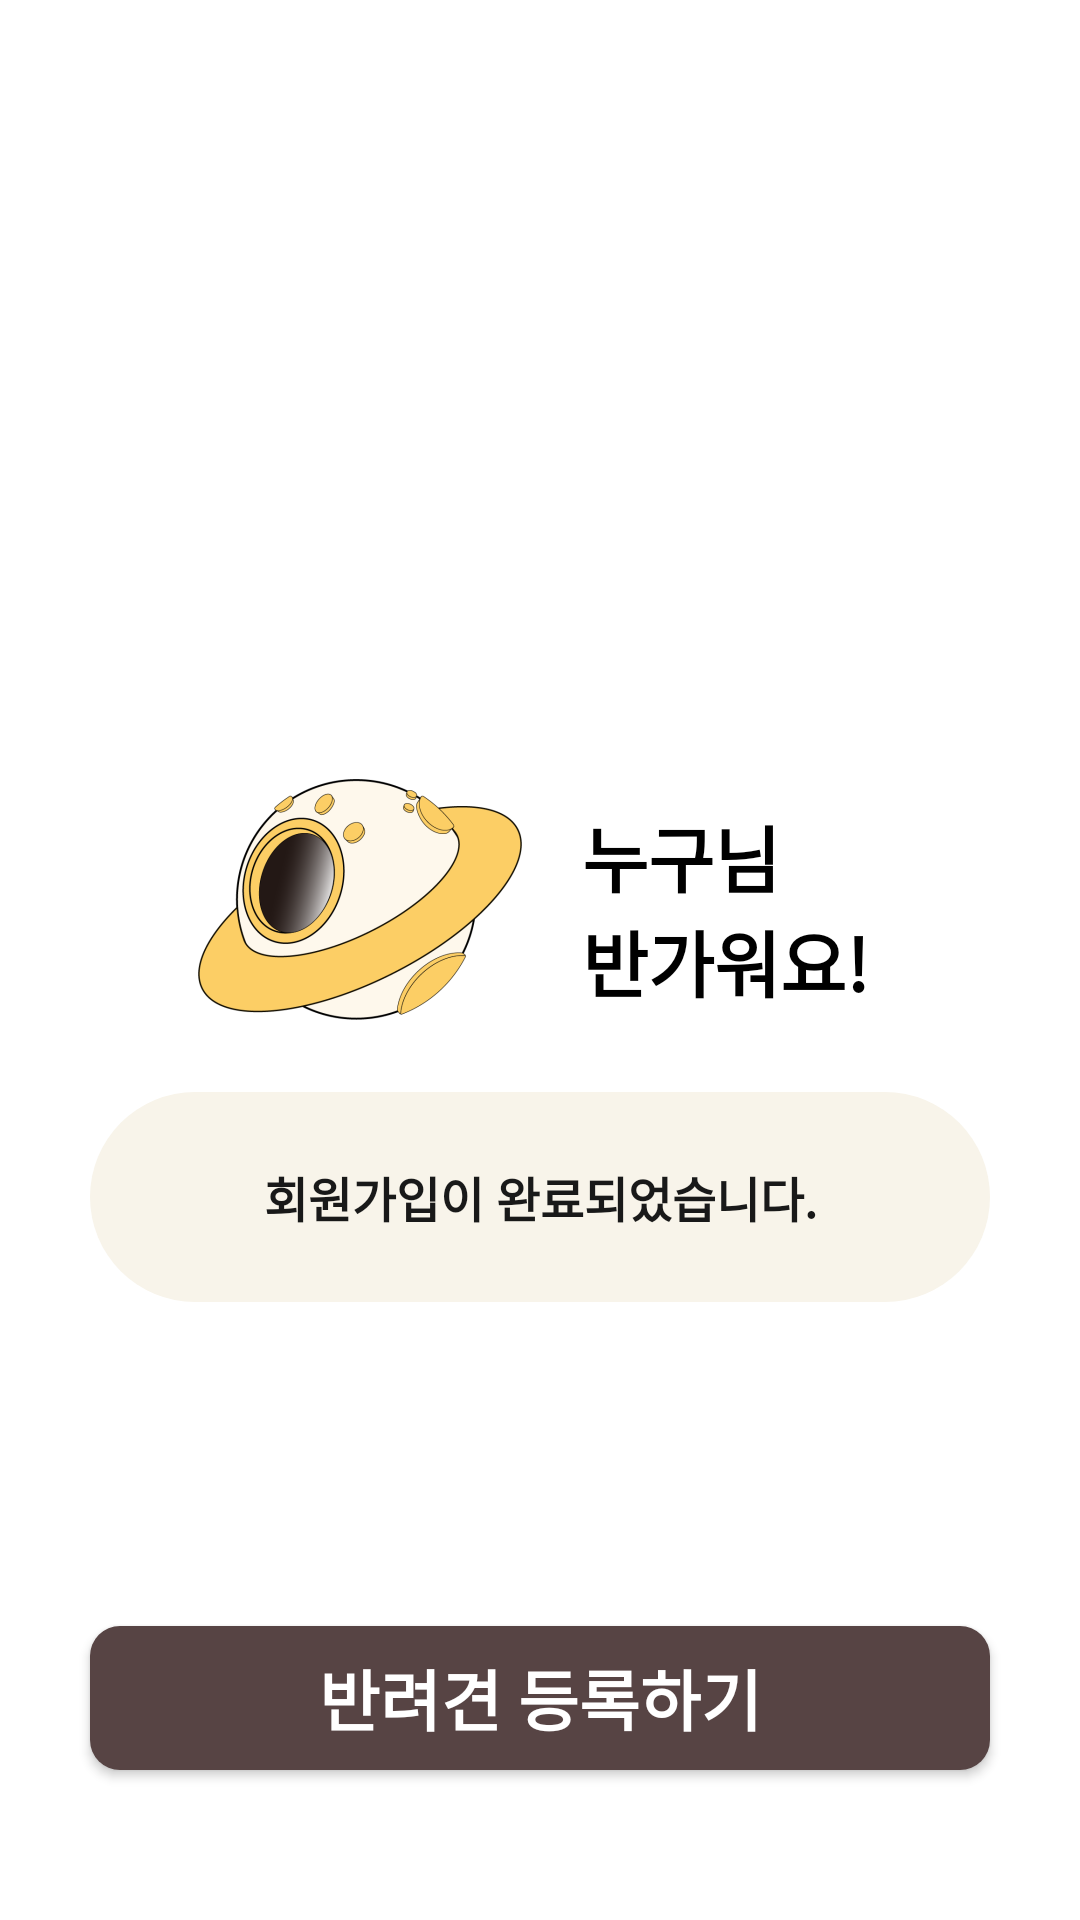

Locate icon controls on the screen. Image size 1080×1920, boxes as detection(x1, y1, x2, y2).
planet: detection(198, 779, 522, 1020)
